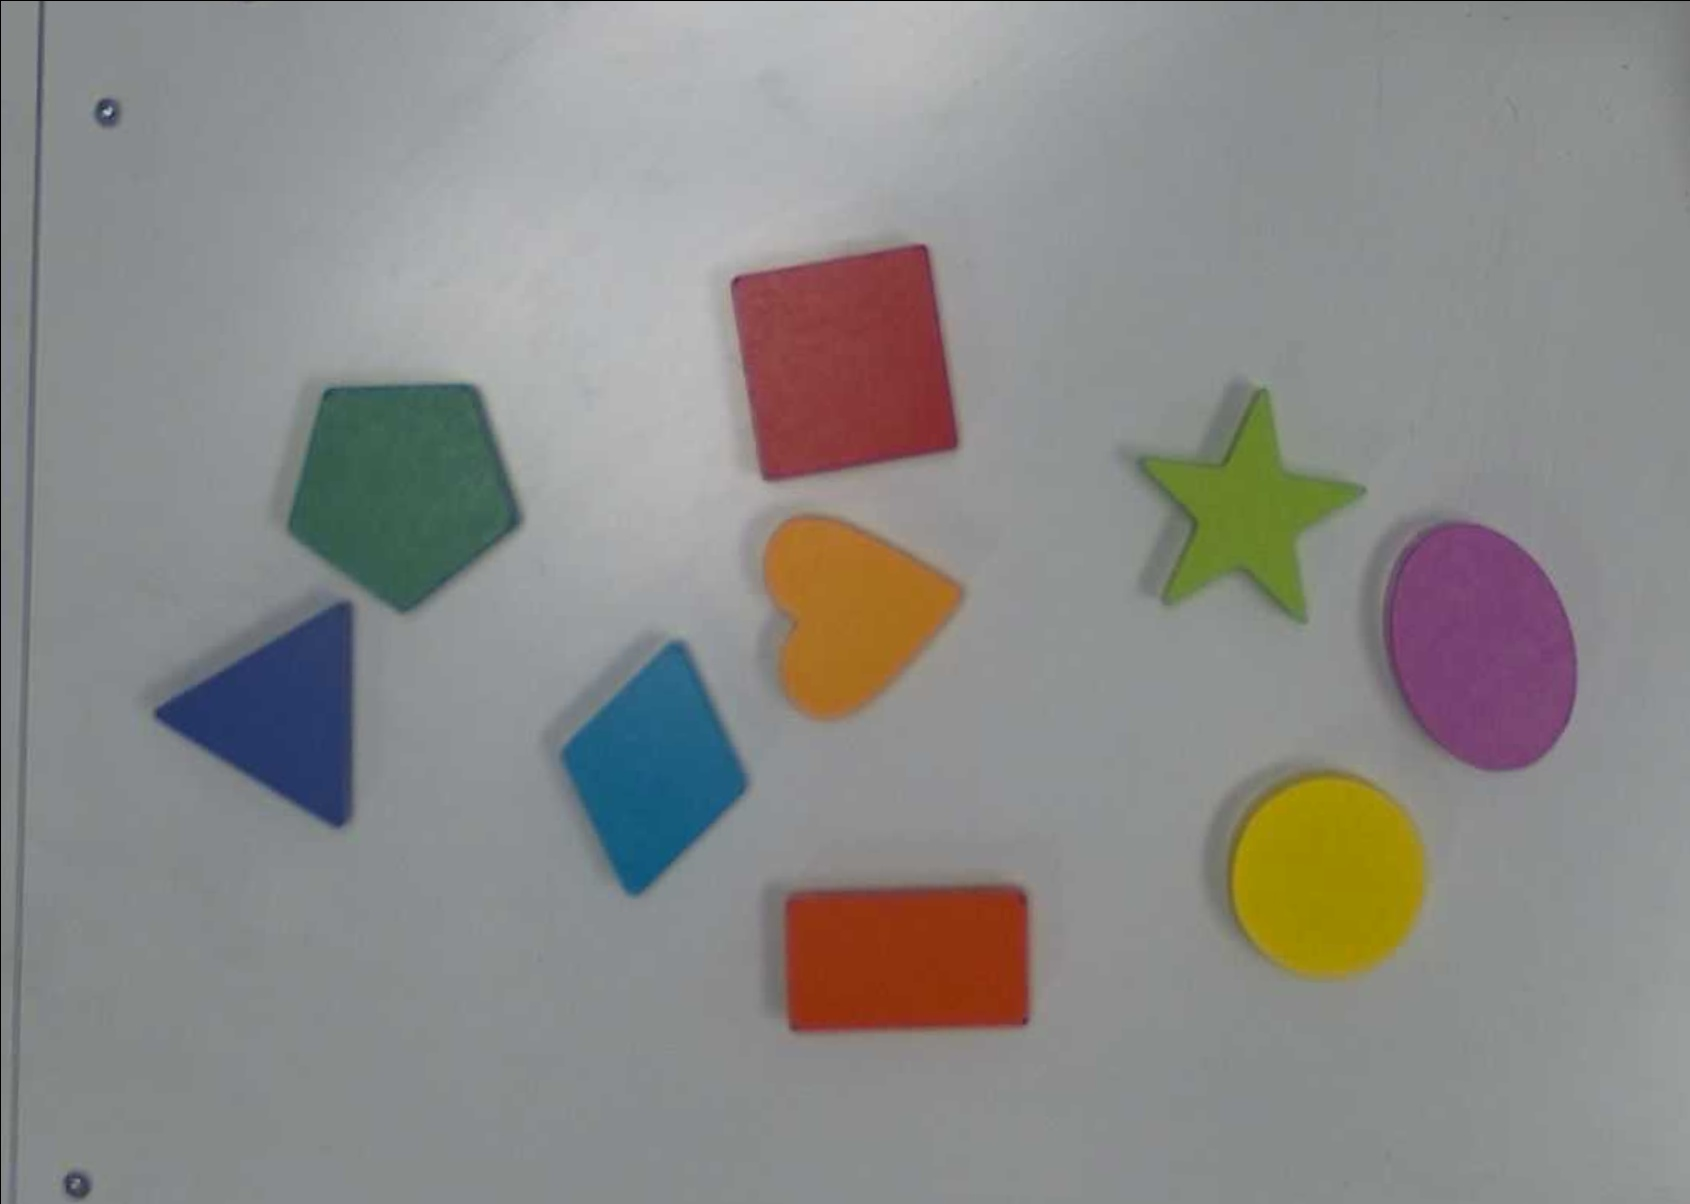Circle: (1222, 764, 1436, 989)
Ellipse: (1380, 512, 1582, 777)
Heart: (753, 511, 976, 726)
Parallelogram: (550, 635, 764, 900)
Pentagon: (278, 371, 532, 623)
Rectangle: (778, 881, 1042, 1037)
Square: (724, 232, 971, 487)
Star: (1134, 377, 1373, 623)
Triangle: (147, 595, 360, 839)
